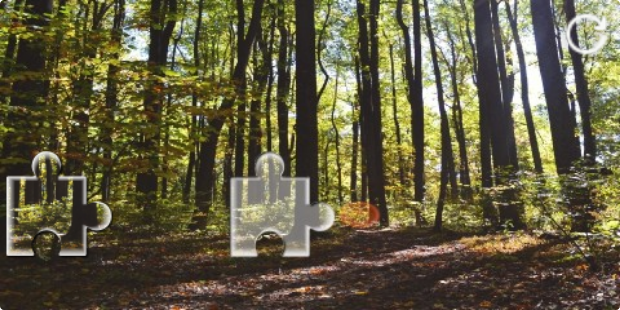target: (229, 153, 334, 257)
